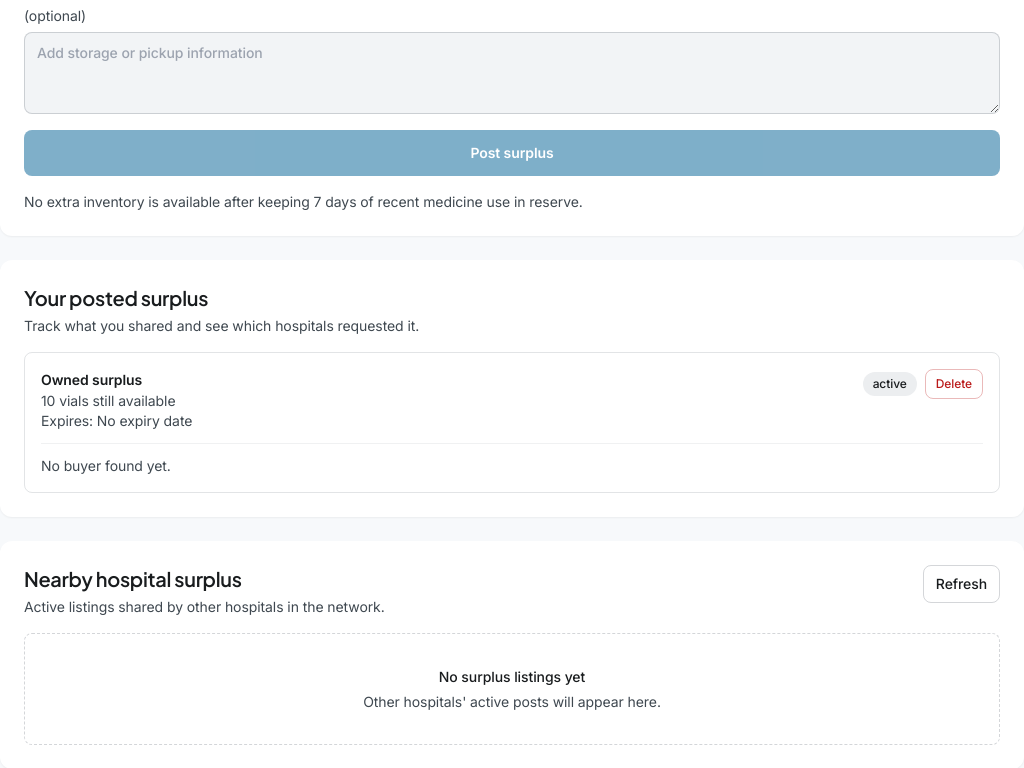
Test: PulseGrid Control Tower Test Suite › MOUPartnersView Component (Screen 5) › removes a posted surplus listing
(page scrolled)
Click the button with aria-label "Delete Owned surplus surplus". click: (954, 384)
box: [925,369,983,399]
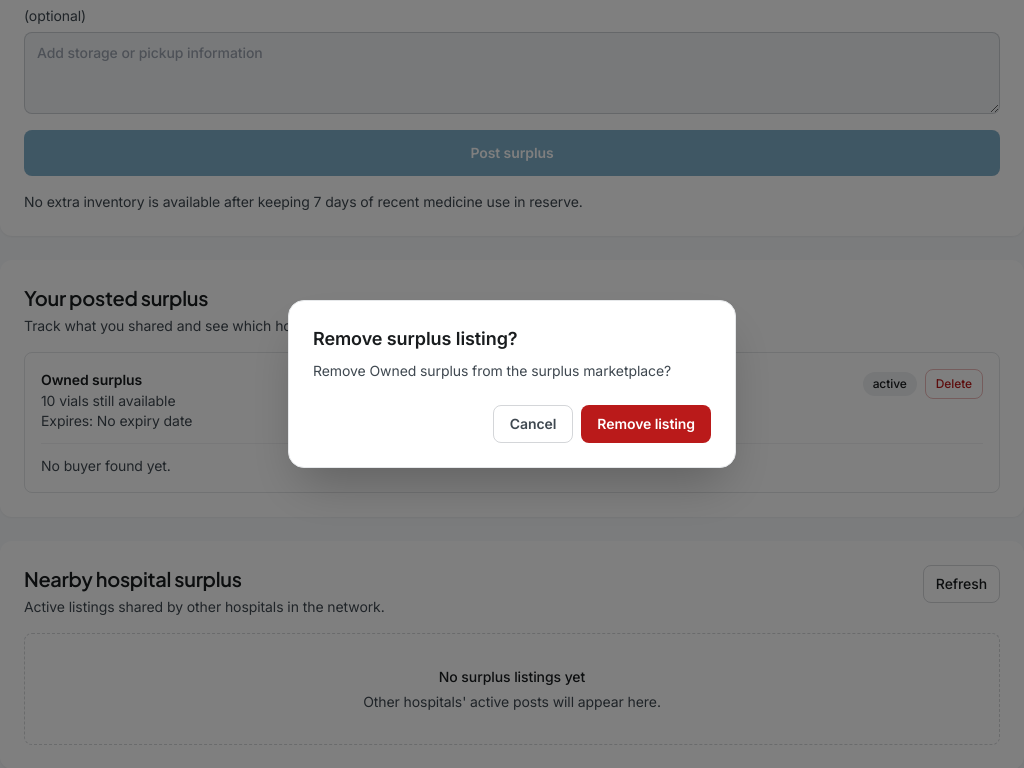
expect the dialog shows "Remove Owned surplus": met, box [313,362,671,379]
Click the button "Remove listing". click: (646, 424)
box: [581,405,711,443]
(page scrolled)
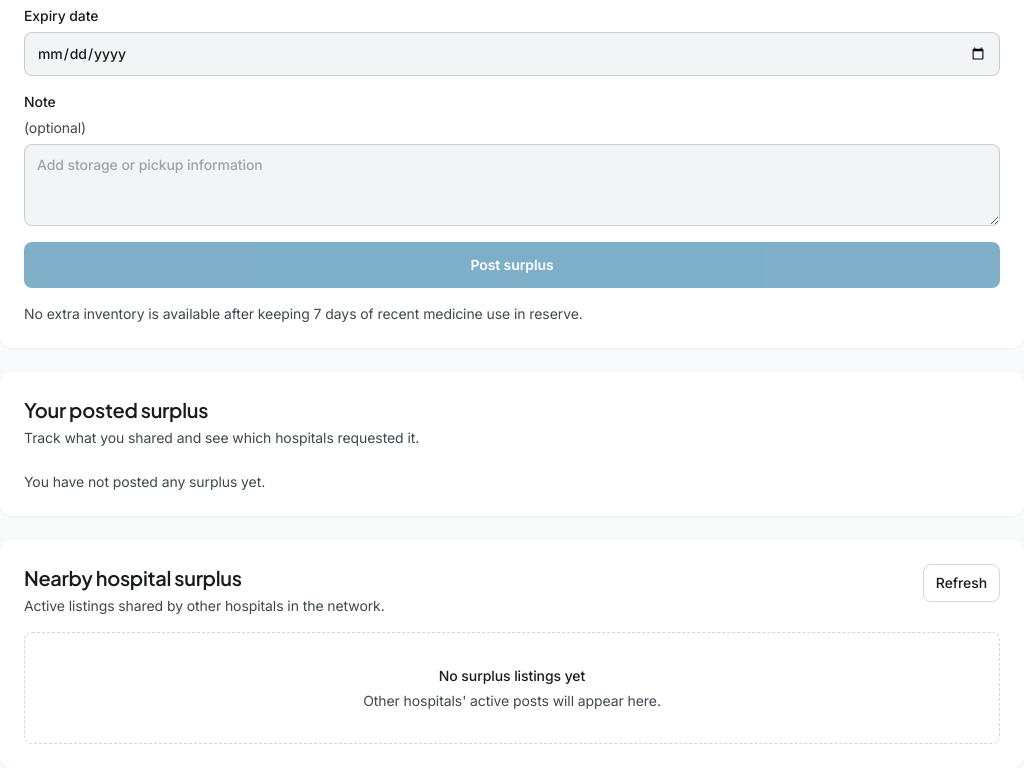
expect the text "You have not posted any surplus yet." is shown: met, box [24,473,265,490]
